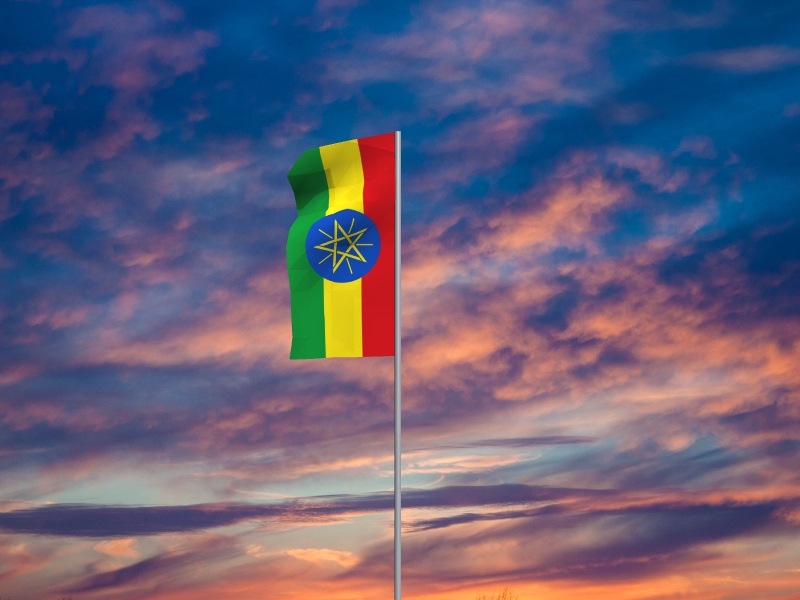et: (285, 133, 395, 362)
